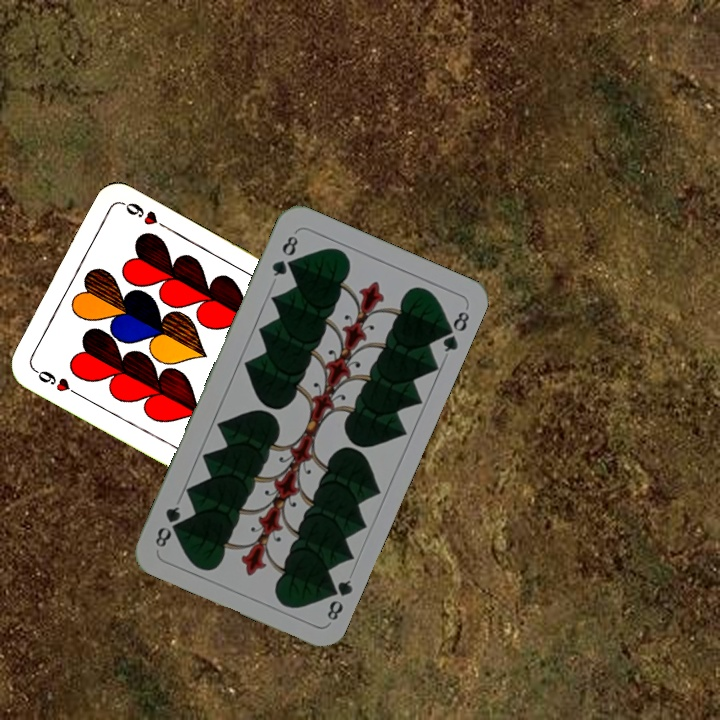G8: (267, 228, 301, 279), (322, 575, 356, 623)
H9: (29, 364, 83, 399)
